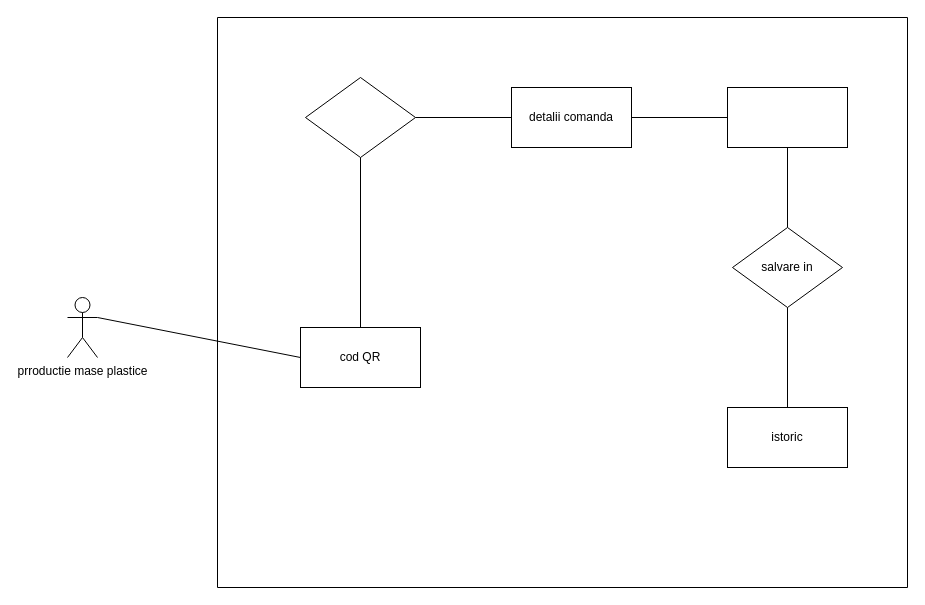
Some shapes in this 925 by 605 pixel diagram are drawn without their labels. The shapes that lost their labels are listed below. From the top down, each one's box as (x1, y1, x2, y2) in pixels, then its label:
(304, 76, 416, 158): se afiseaza
(726, 86, 848, 148): confirmare verificari
